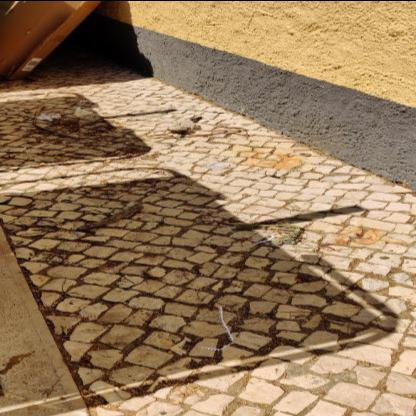Bottle: (302, 153, 312, 156)
Carton: (1, 1, 102, 80)
Cigarette: (231, 216, 239, 218)
Lid: (202, 161, 229, 169)
Paper: (201, 306, 234, 350), (250, 231, 297, 247), (36, 112, 60, 121), (74, 106, 94, 116)
Unlabeled litter: (166, 119, 196, 130), (210, 218, 218, 220)
